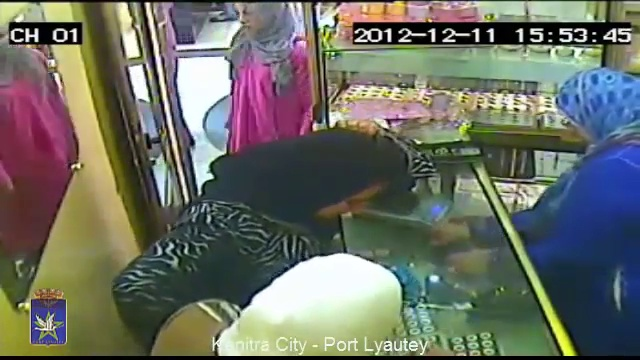face: (324, 173, 383, 219), (235, 0, 258, 33)
